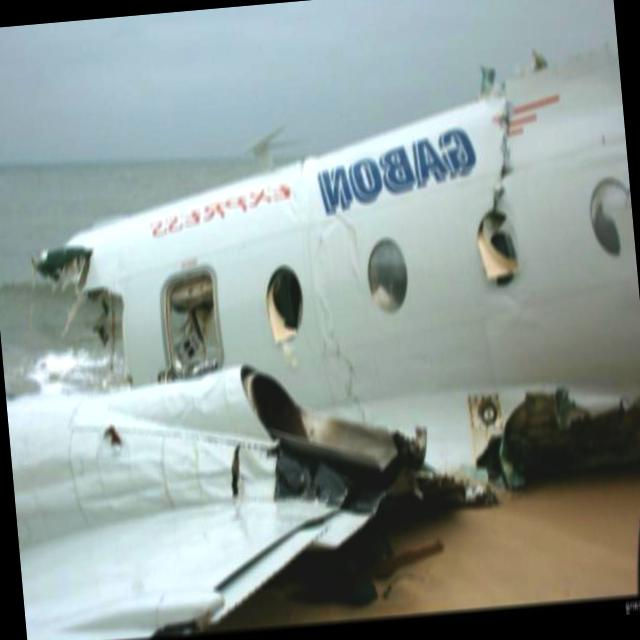crack: (478, 78, 526, 217), (324, 321, 374, 434), (330, 208, 362, 288), (218, 442, 248, 502)
